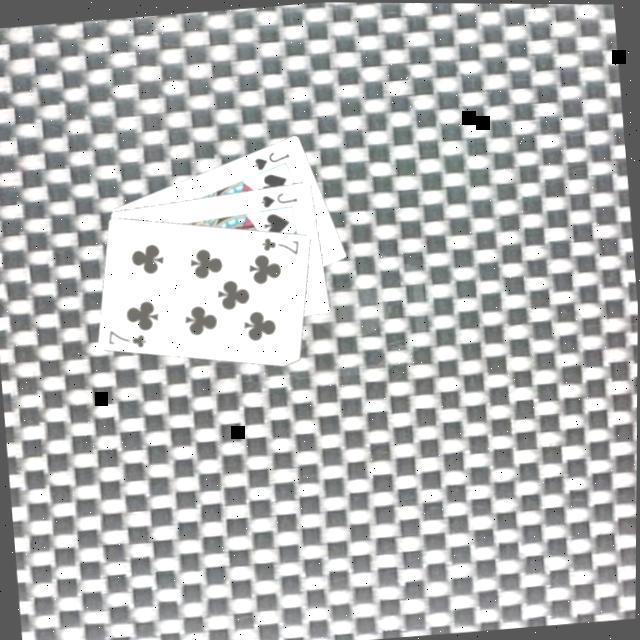7C: (106, 321, 152, 350), (260, 228, 304, 258)
JS: (251, 144, 295, 170), (259, 185, 302, 208)
